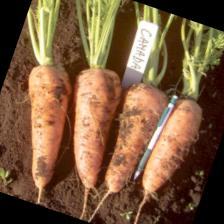carrot: (0, 57, 88, 192), (43, 60, 133, 190), (92, 78, 174, 201), (138, 92, 208, 202)
